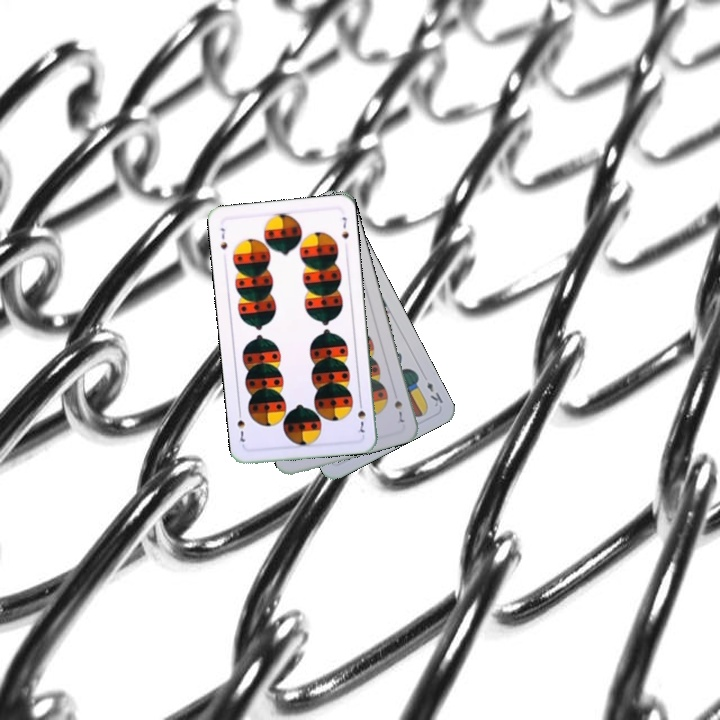EK: (423, 378, 446, 409)
S7: (353, 396, 368, 435), (390, 396, 407, 425), (216, 224, 230, 252)
